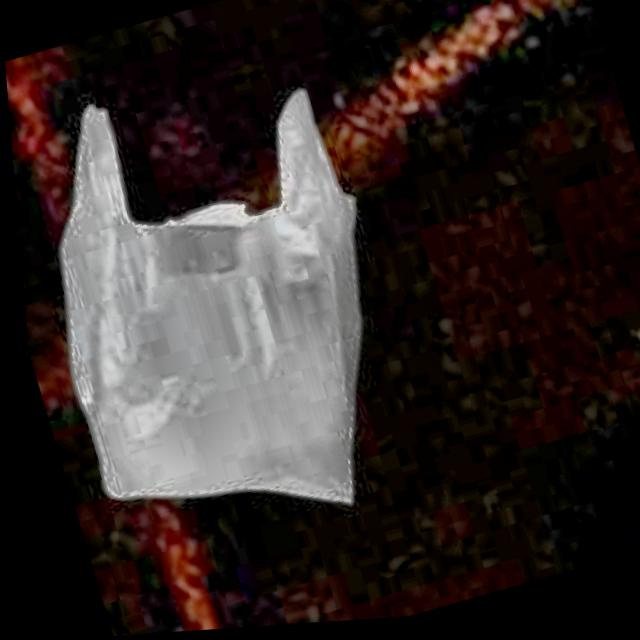Plastic: (3, 27, 444, 588)
